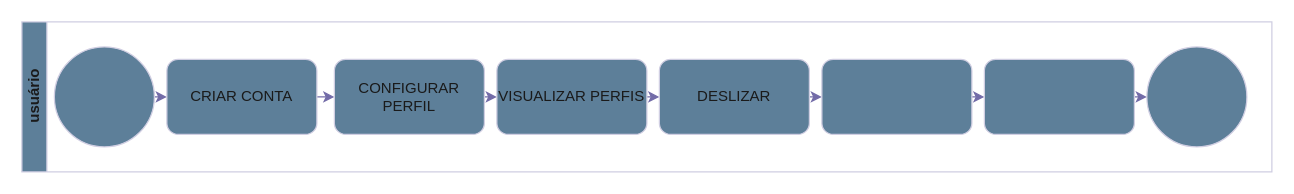
Some shapes in this 1294 by 194 pixel diagram are drawn without their labels. The shapes that lost their labels are listed below. From the top down, each one's centre as x and y in pixels, then its label:
At pixel 896 96: "MATCH".
At pixel 1058 96: "CONVERSA".
